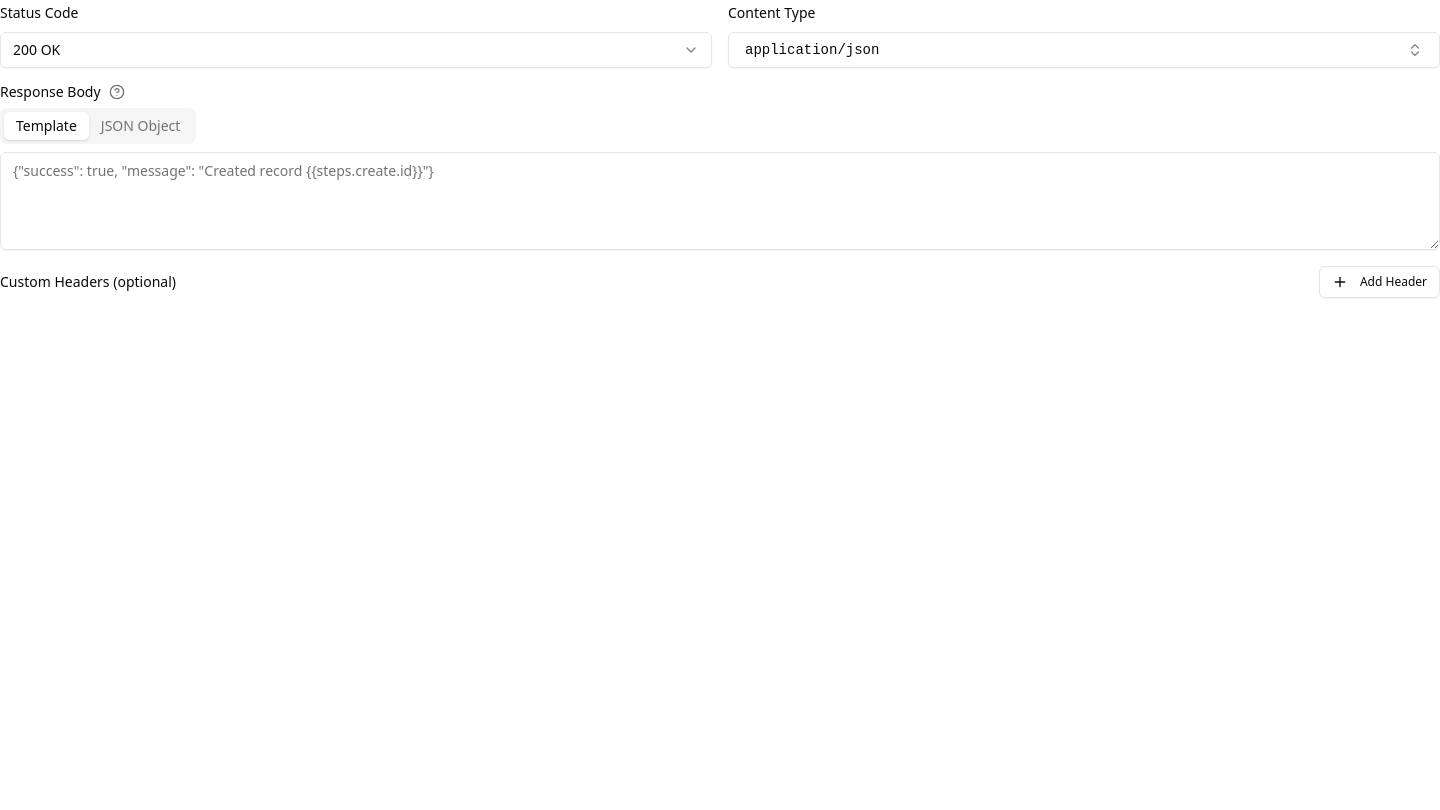
Scenario: ResponseHandlerConfig content type › typing a custom content type preserves it verbatim
Click the dropdown named "content type" at (812, 50), box x1=728 y1=32 x2=1439 y2=68
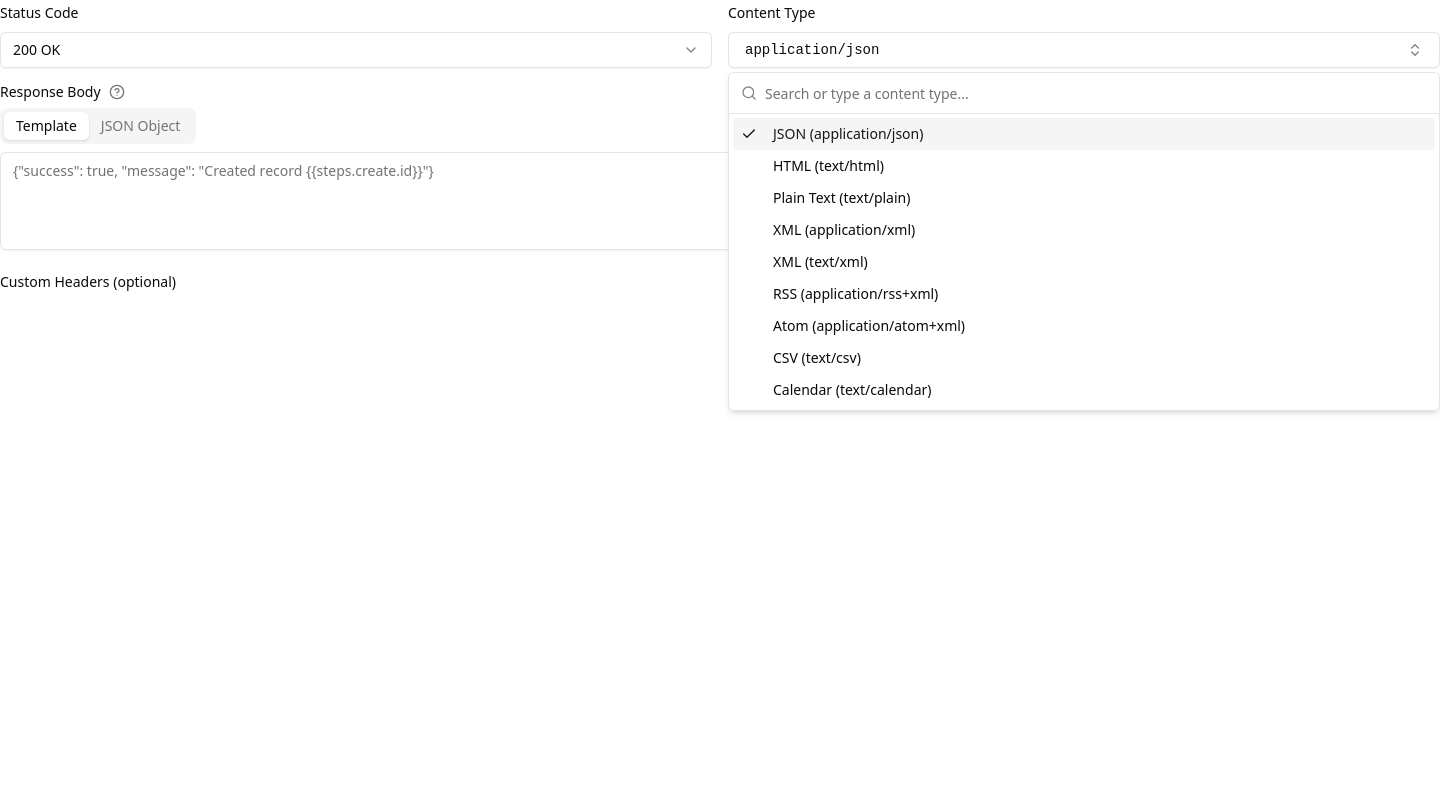
Type "application/vnd.custom+json" into the dropdown with placeholder "Search or type a content type..." at (1096, 93), box x1=765 y1=73 x2=1427 y2=113
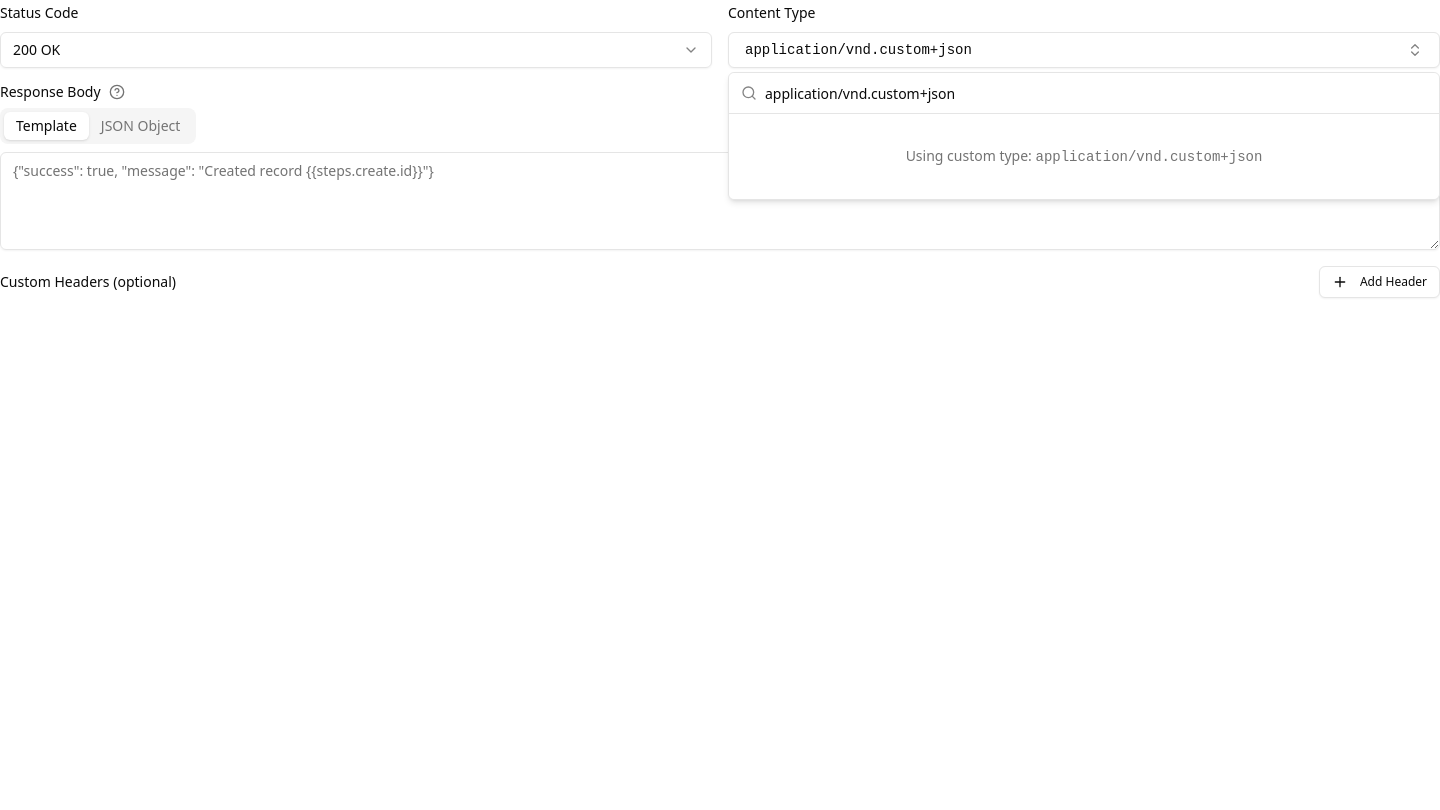
Expected: the dropdown named "content type" reads "application/vnd.custom+json", x1=728 y1=32 x2=1439 y2=68
